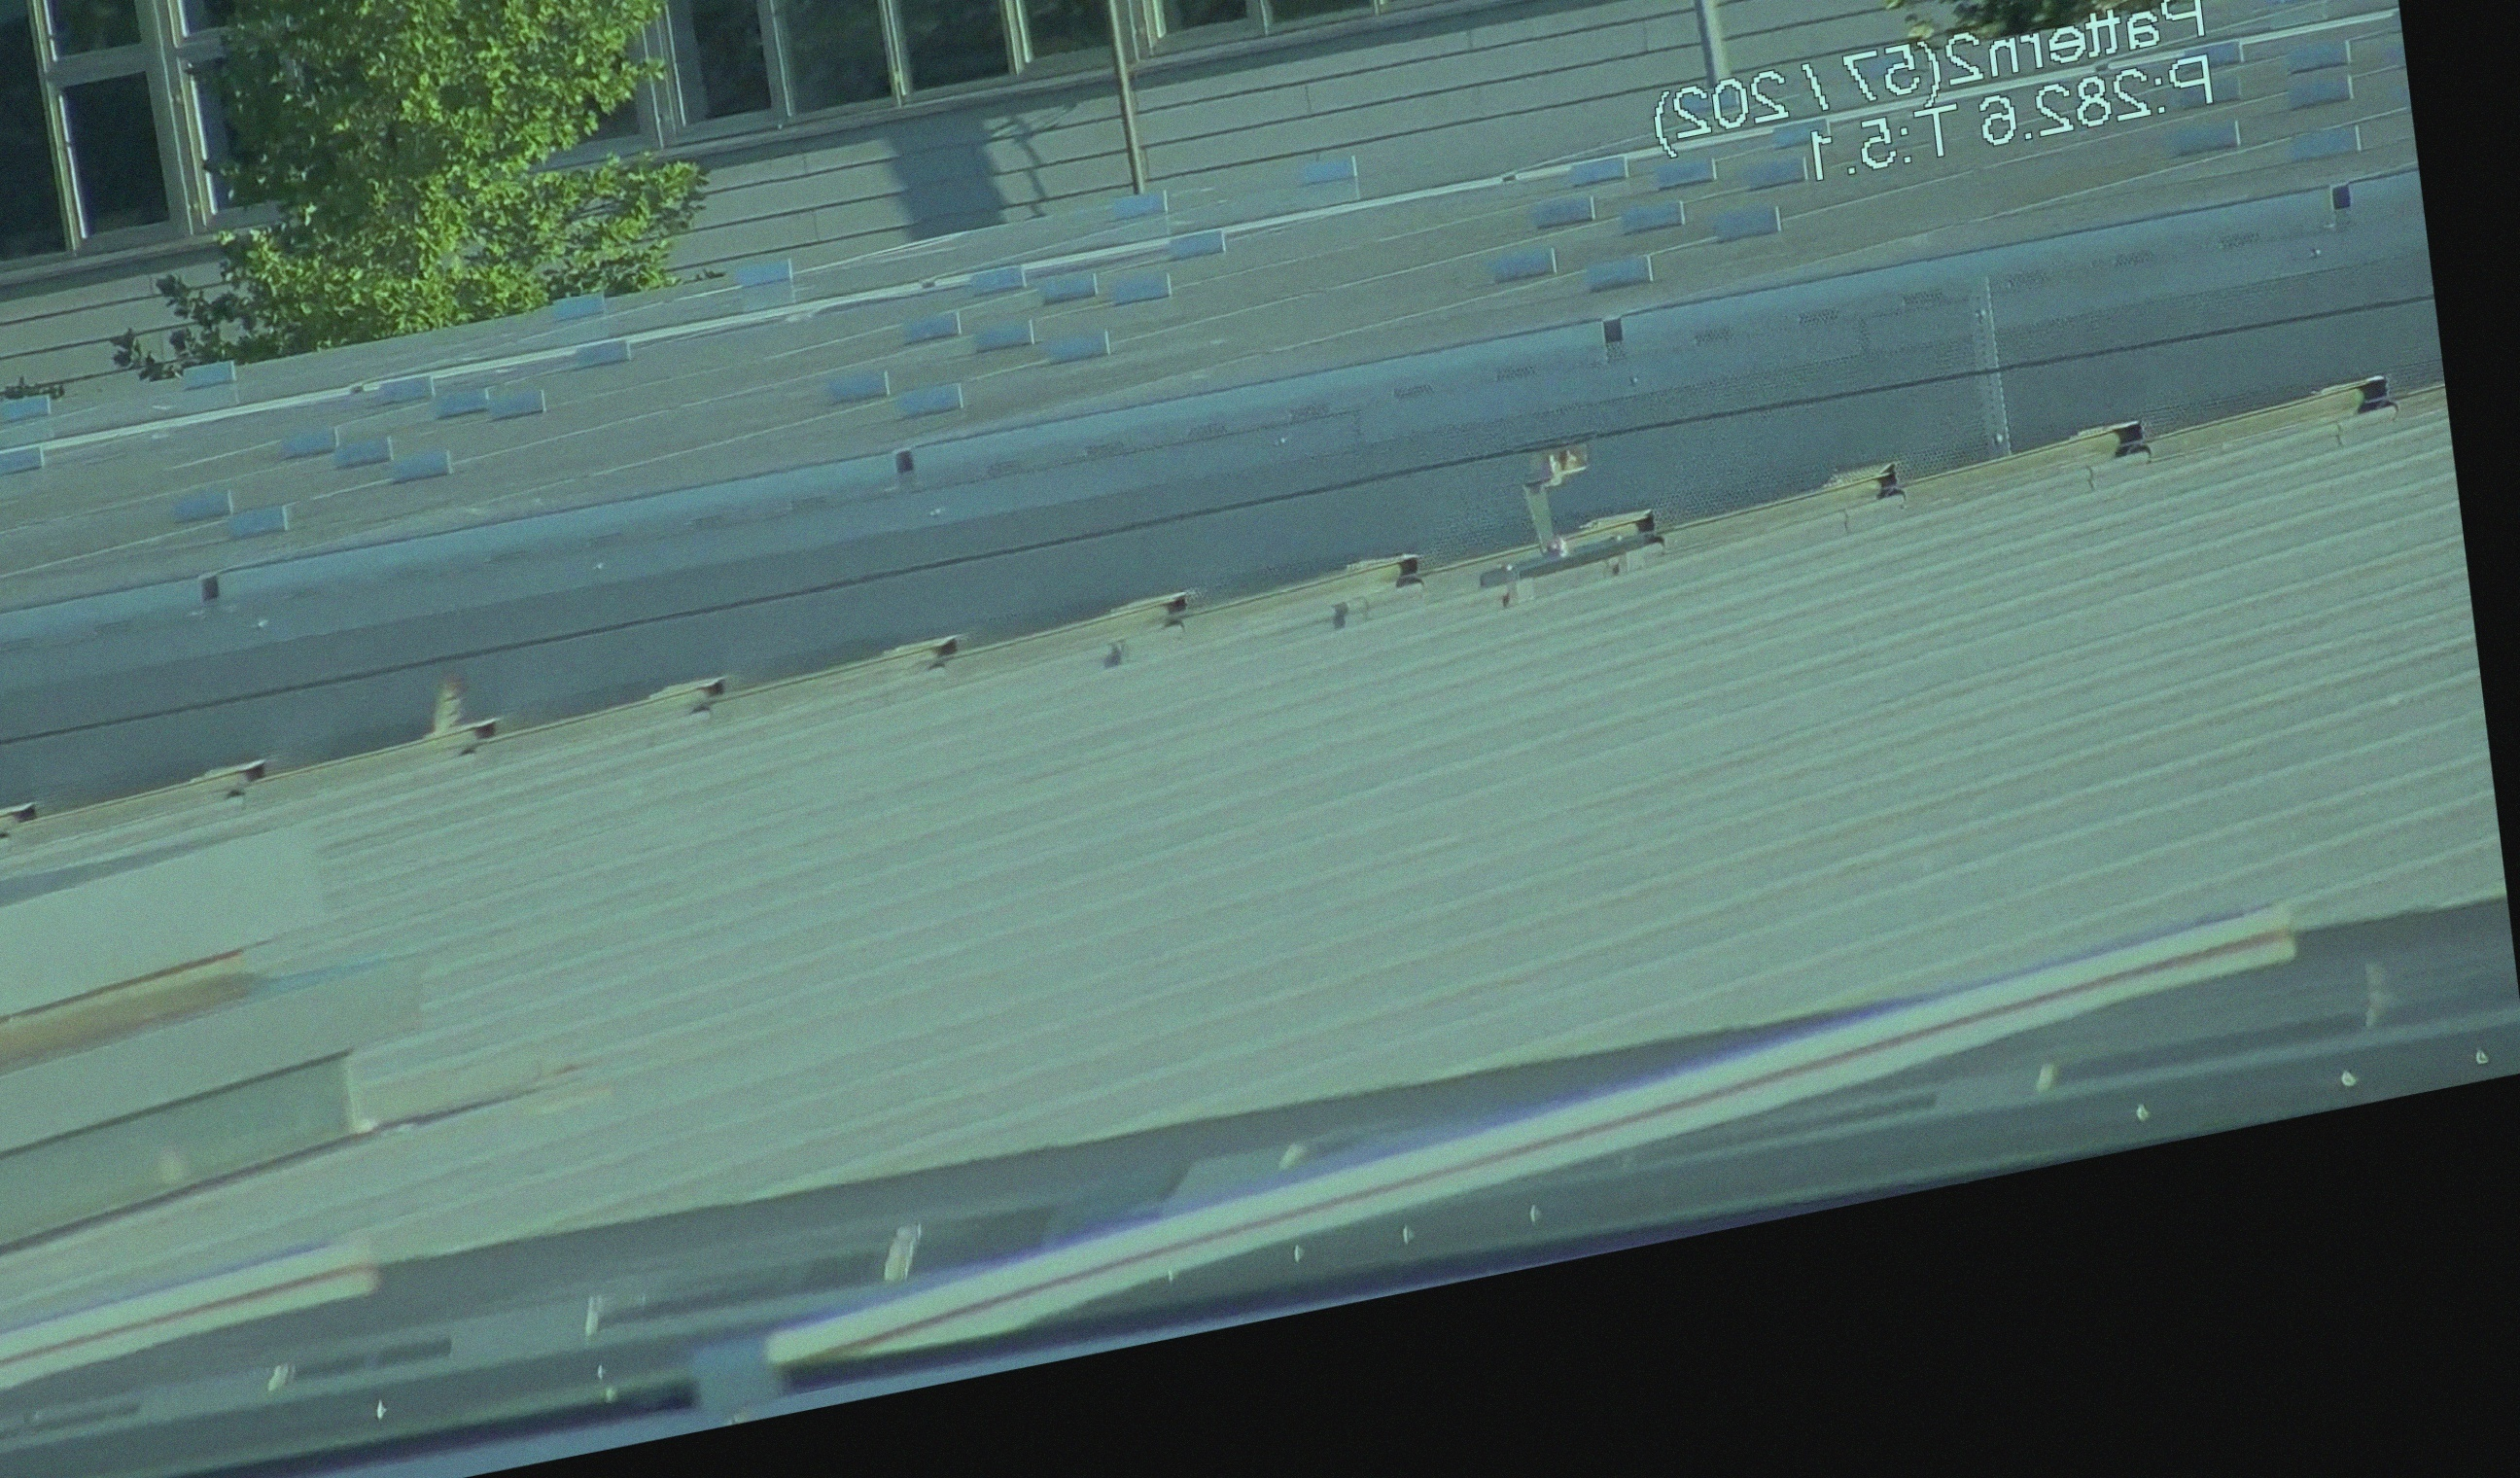Other: (406, 649, 494, 771)
